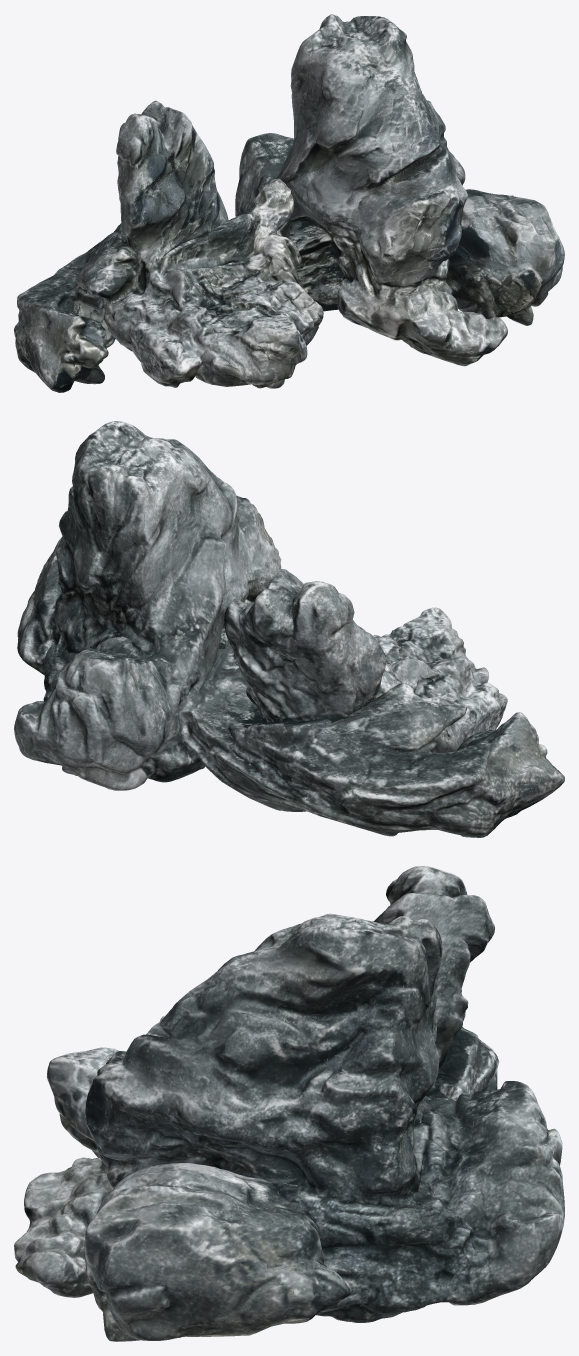
File: RockStack1-lq.glb
The picture shows the model from 3 angles, top to bottom: view 1: azimuth 30°, elevation 25°; view 2: azimuth 150°, elevation 25°; view 3: azimuth 270°, elevation 25°; orthographic projection. The views are drawn at different scales.
Parts seen in each view (by area): view 1: Mesh_0; view 2: Mesh_0; view 3: Mesh_0.
Boxes of the visible parts, left/top/right/bottom form: Mesh_0: left=14, top=14, right=564, bottom=392; Mesh_0: left=14, top=421, right=564, bottom=837; Mesh_0: left=14, top=866, right=564, bottom=1341.
Bounding box in the file's own units: 1.91 × 1.04 × 1.34.
Materials: 1 (1 with a texture image).
